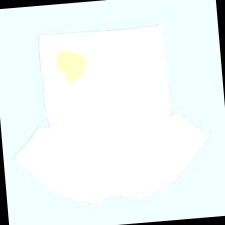mustard: (55, 50, 89, 87), (43, 47, 52, 59)
